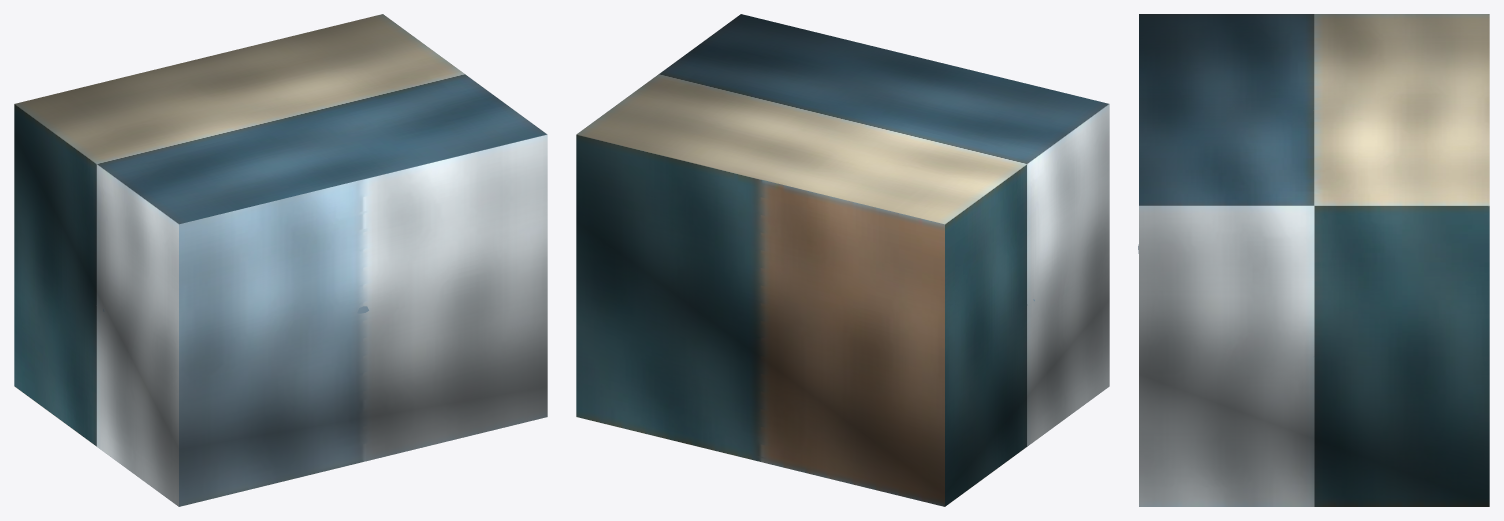
The model's file is ice_rock_a.glb.
The picture shows the model from 3 angles, left to right: view 1: azimuth 30°, elevation 25°; view 2: azimuth 150°, elevation 25°; view 3: azimuth 270°, elevation 25°; orthographic projection. The views are drawn at different scales.
Parts seen in each view (by area): view 1: col; view 2: col; view 3: col.
Boxes of the visible parts, x1=… form: col: x1=14, y1=14, x2=547, y2=506; col: x1=576, y1=14, x2=1109, y2=506; col: x1=1139, y1=14, x2=1489, y2=506.
Size of the model in its own units: 2.15 by 1.58 by 1.67.
1 material, 1 textured.
